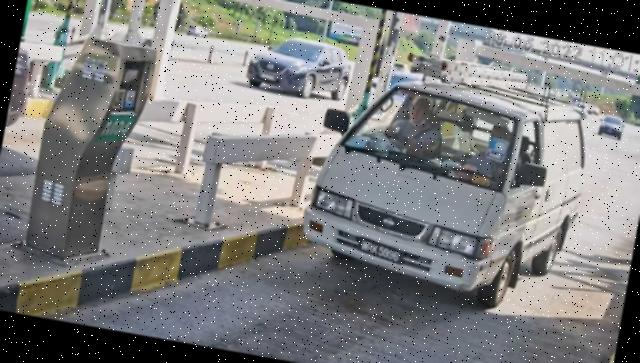License_Plate: (356, 236, 406, 268)
van: (294, 38, 601, 321)
